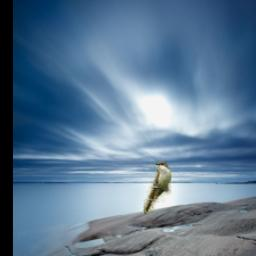Cuckoo: (143, 162, 171, 215)
